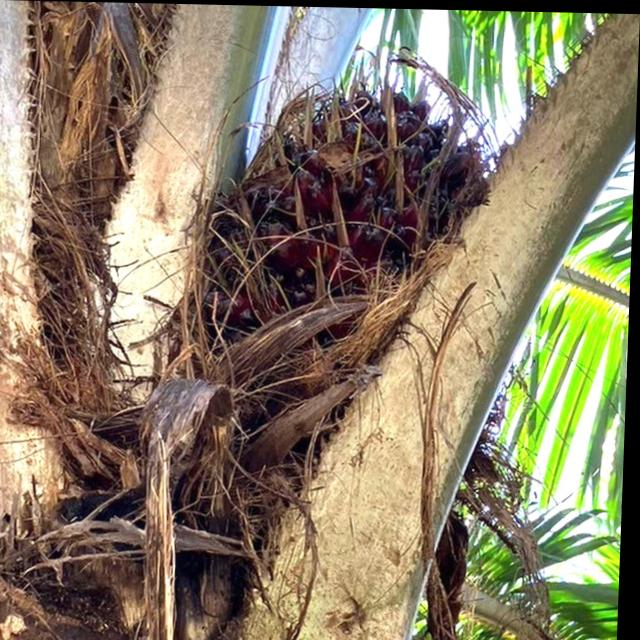ripe: (189, 64, 500, 381)
